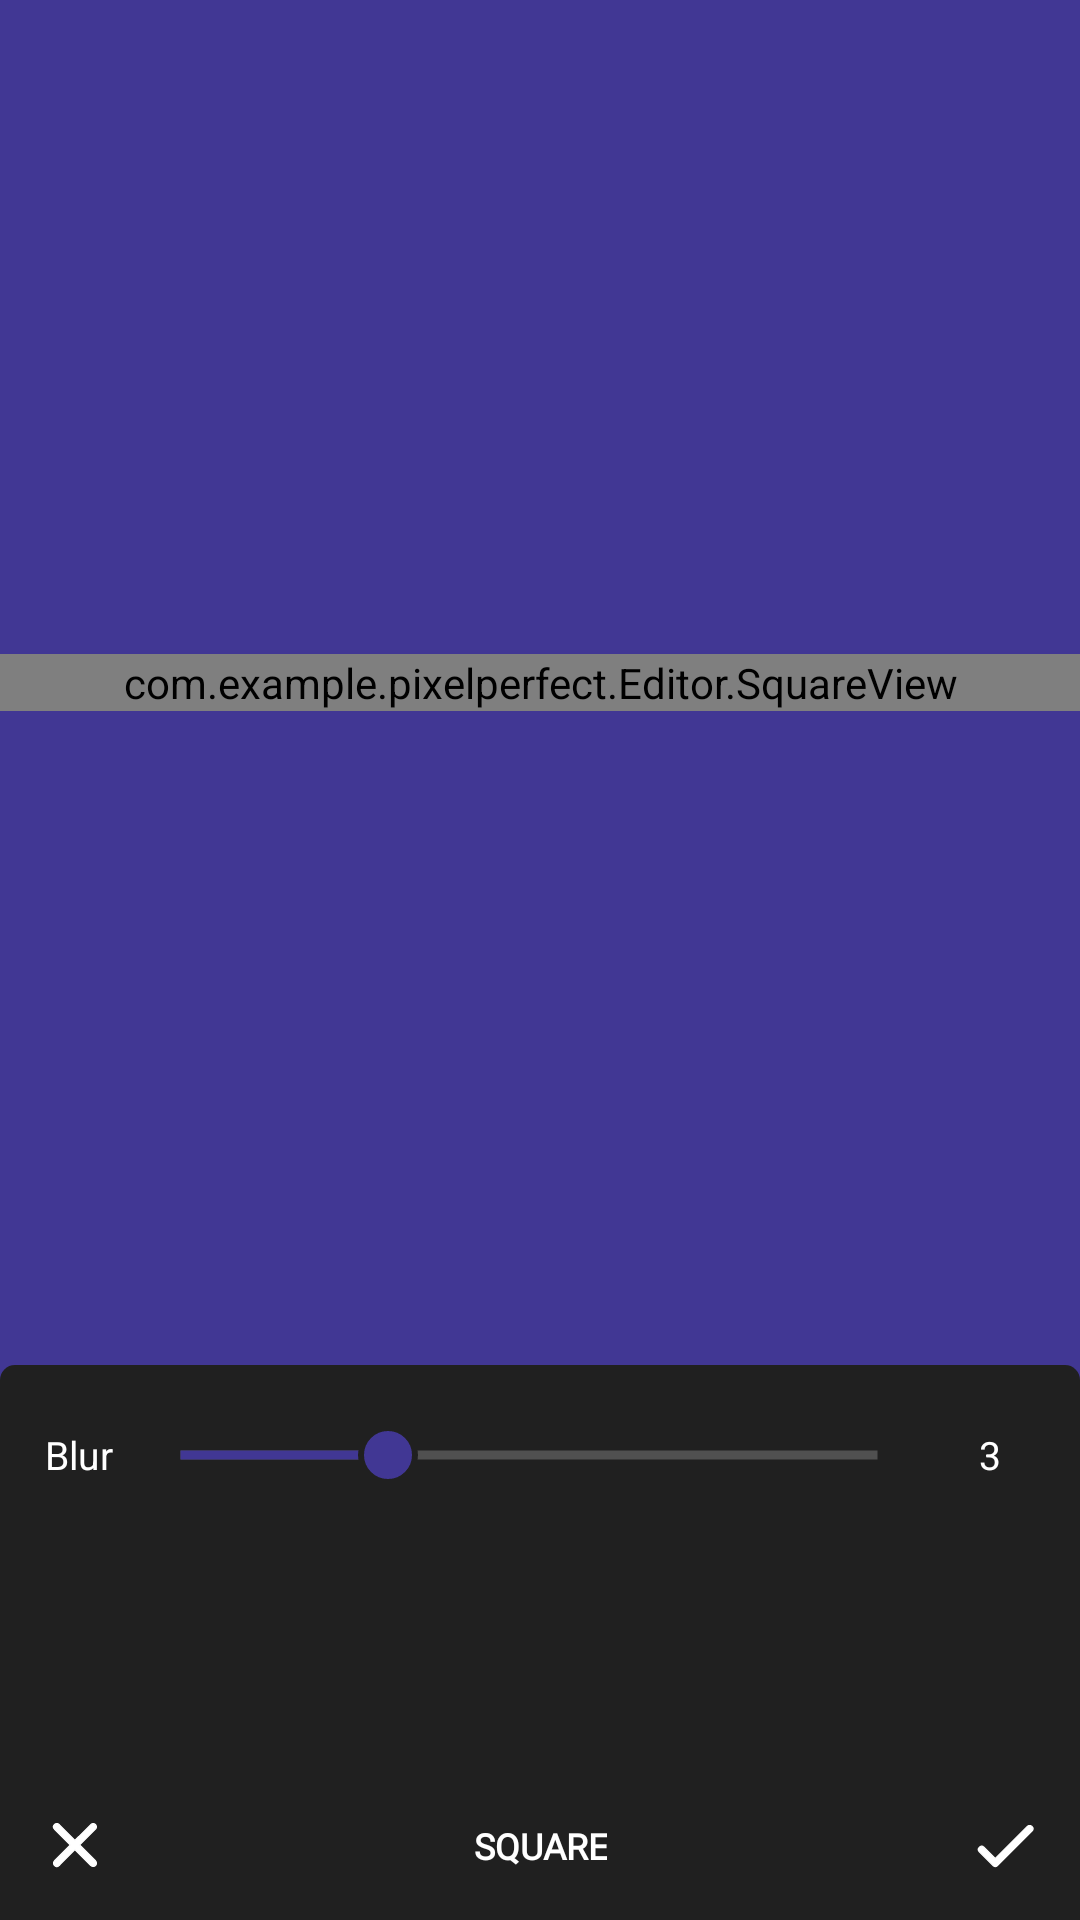

Where icons sit on this 1080*1920 app screen, as (x1, y1, x2, y2):
check: (977, 1825, 1034, 1868)
close: (52, 1823, 97, 1868)
